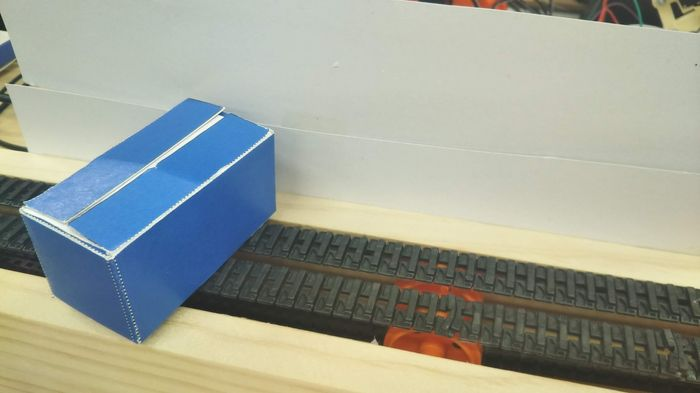box3: (14, 92, 281, 346)
